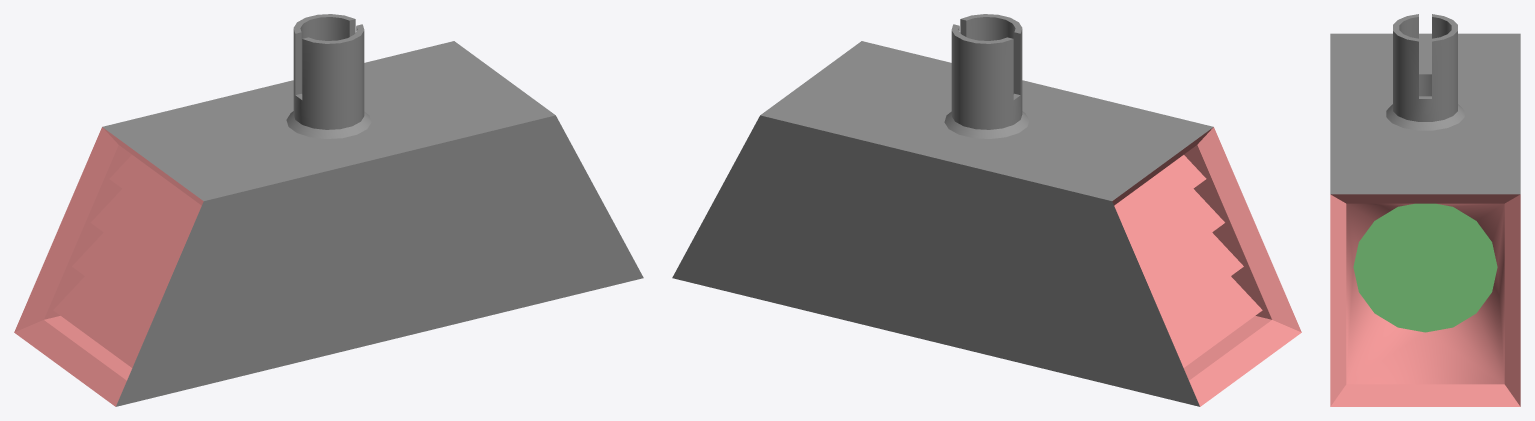
Rendered from SM_Turbine_6x2x2.gltf.
3 views of the same model, side by side, from view 1: azimuth 30°, elevation 25°; view 2: azimuth 150°, elevation 25°; view 3: azimuth 270°, elevation 25° (orthographic). The views are drawn at different scales.
Visible parts, largest first — view 1: SM_Turbine_6x2x2; view 2: SM_Turbine_6x2x2; view 3: SM_Turbine_6x2x2.
Part boxes in pixels (box(x1,y1,x2,y2)): SM_Turbine_6x2x2: box(14, 14, 643, 406); SM_Turbine_6x2x2: box(672, 14, 1301, 406); SM_Turbine_6x2x2: box(1330, 14, 1520, 406).
Size of the model in its own units: 1.8 by 0.9 by 0.6.
